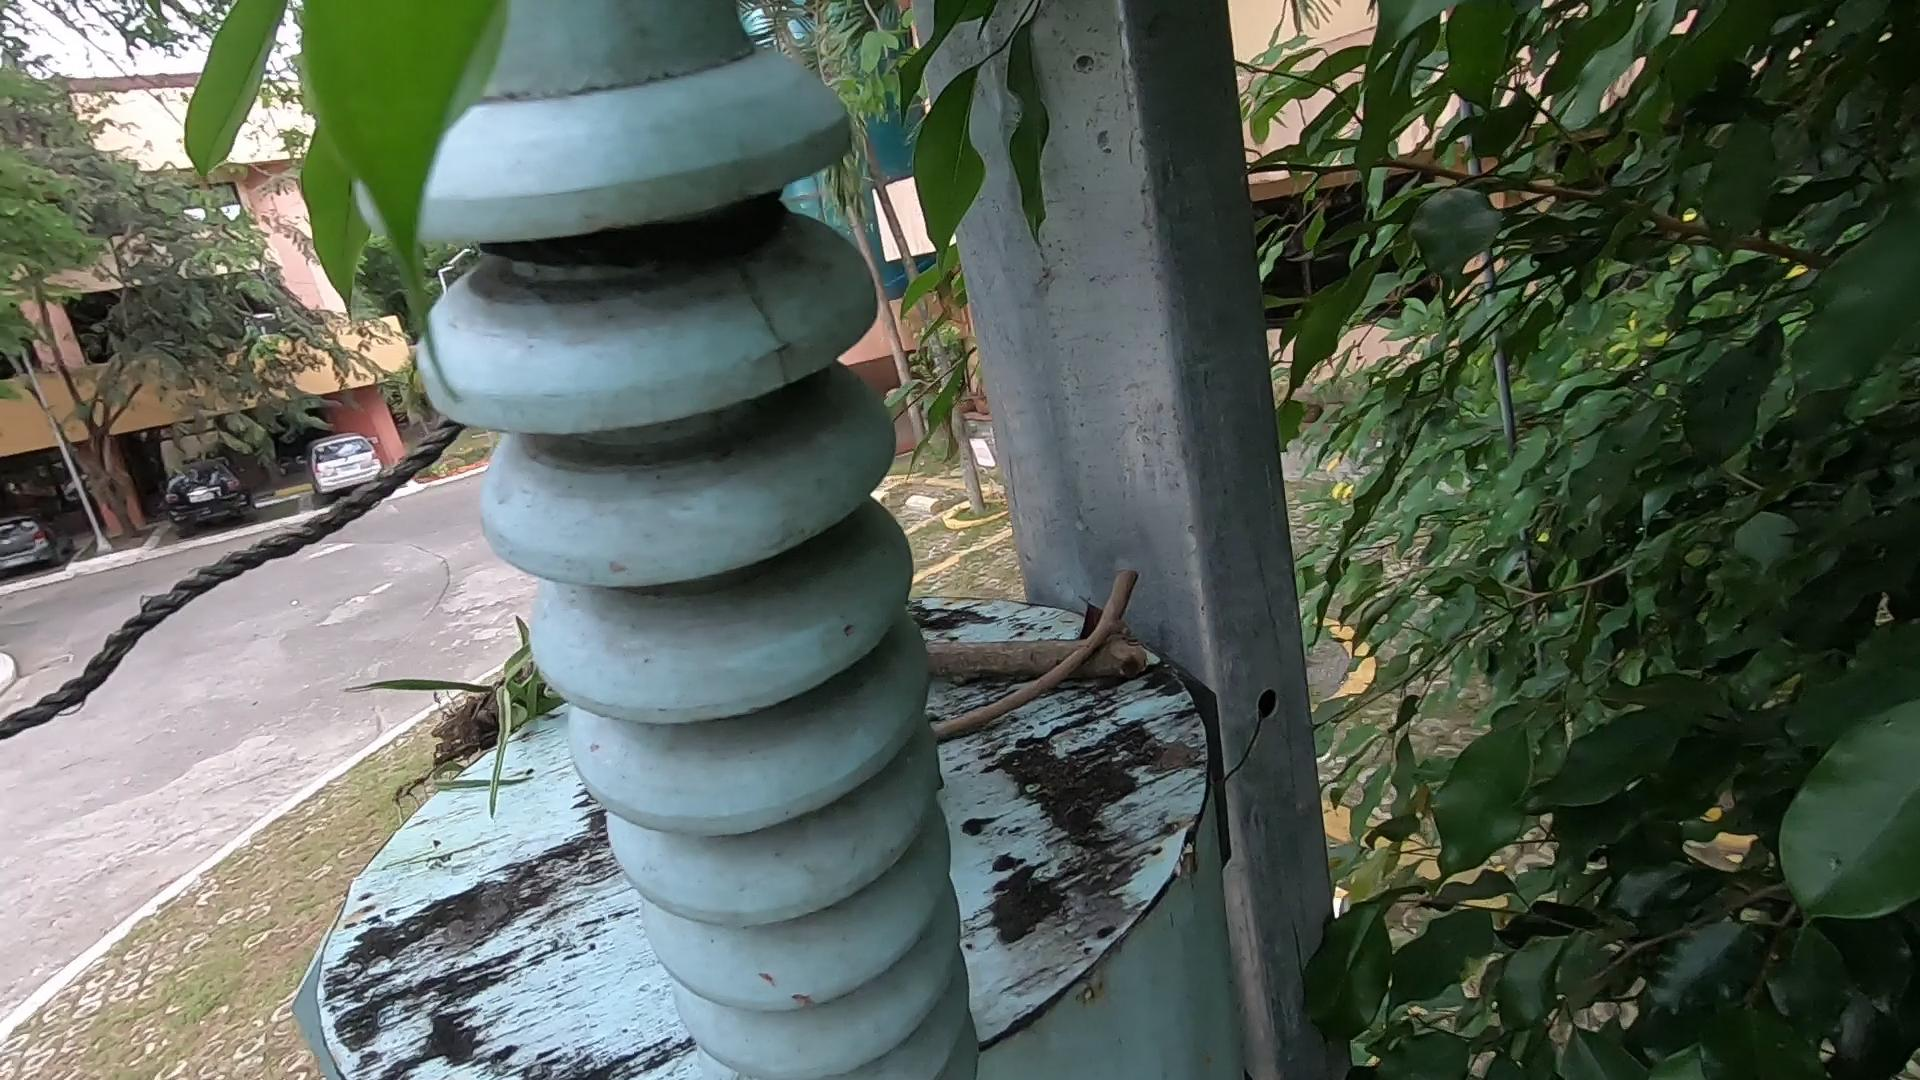branch with leaves: (431, 527, 1189, 671)
tree branch: (916, 571, 1151, 778)
